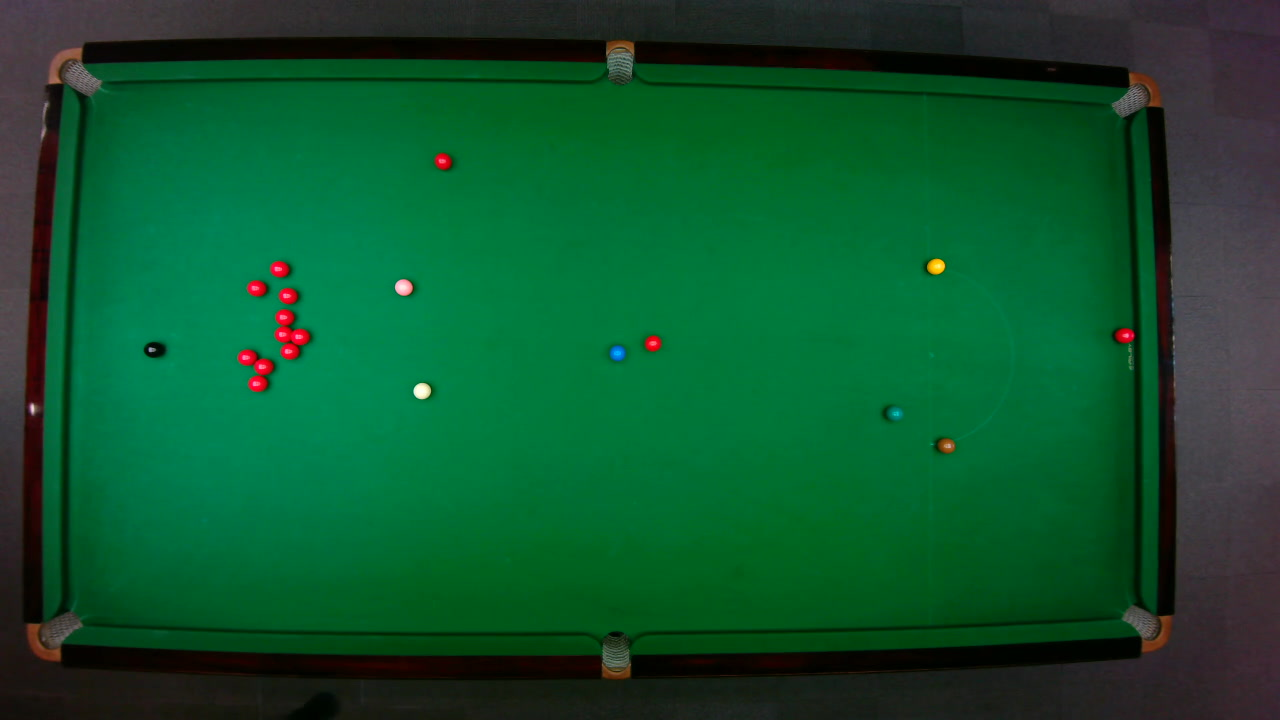bag: (25, 609, 83, 662), (45, 46, 101, 96), (1119, 603, 1171, 652), (1108, 71, 1162, 118), (600, 629, 629, 680), (605, 38, 633, 85)
black: (142, 340, 163, 358)
blue: (607, 343, 626, 361)
brown: (936, 436, 956, 453)
green: (883, 404, 904, 421)
pink: (393, 277, 413, 296)
red: (287, 326, 311, 345), (235, 347, 258, 366), (252, 356, 274, 375), (244, 278, 267, 296), (273, 307, 294, 326), (268, 259, 290, 277), (246, 374, 268, 392), (1112, 326, 1135, 343), (277, 286, 298, 304), (433, 151, 452, 170), (279, 342, 300, 359), (643, 334, 662, 352), (273, 325, 293, 342)
white: (411, 381, 432, 400)
yellow: (925, 257, 945, 274)
zone: (927, 264, 1013, 444)
